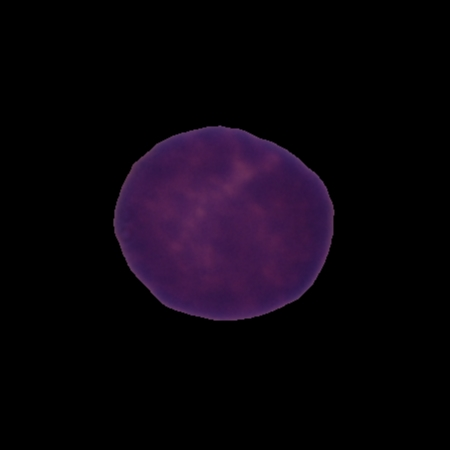HEM: (110, 124, 337, 323)
